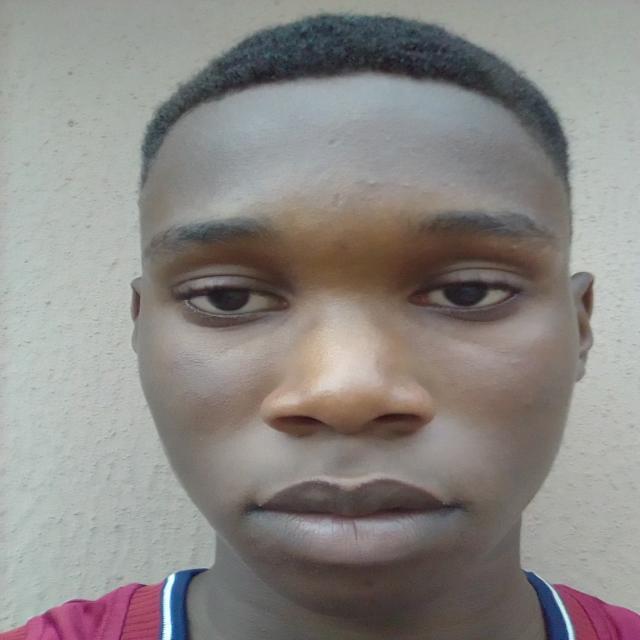Acne: (362, 173, 385, 189), (502, 356, 528, 367), (521, 398, 538, 411)
